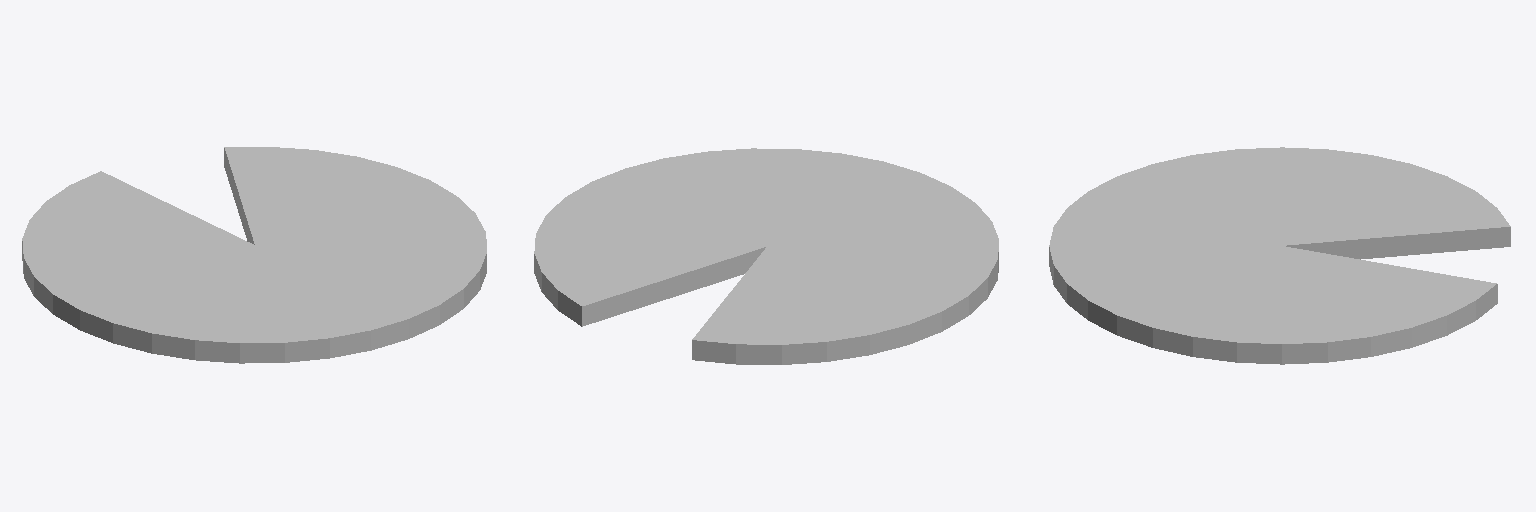
The model's file is lilypad.obj.
The picture shows the model from 3 angles: view 1: azimuth 30°, elevation 25°; view 2: azimuth 150°, elevation 25°; view 3: azimuth 270°, elevation 25°; orthographic projection.
Parts seen in each view (by area): view 1: Cylinder; view 2: Cylinder; view 3: Cylinder.
Part boxes in pixels (x1,y1,x2,y2): Cylinder: (22, 147, 486, 363); Cylinder: (534, 148, 998, 364); Cylinder: (1049, 147, 1510, 364).
Size of the model in its own units: 2 by 0.0957 by 1.98.